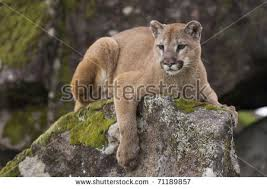Mountain Lion: (145, 13, 210, 83)
